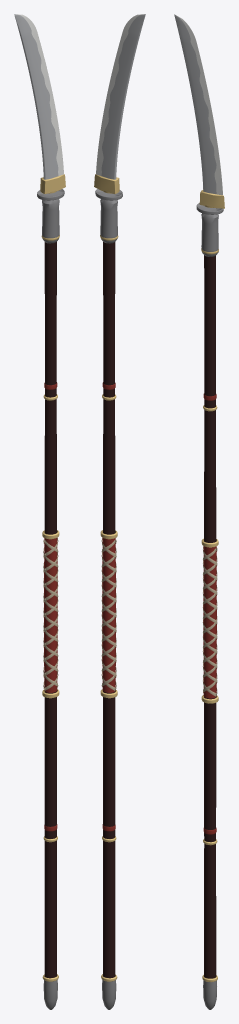
Rendered from gear_edo_naginata.glb.
The picture shows the model from 3 angles, left to right: view 1: azimuth 30°, elevation 25°; view 2: azimuth 150°, elevation 25°; view 3: azimuth 330°, elevation 25°; orthographic projection.
Visible parts, largest first — view 1: gear_edo_naginata; view 2: gear_edo_naginata; view 3: gear_edo_naginata.
Part boxes in pixels (<box>): gear_edo_naginata: <box>14,14,65,1009</box>; gear_edo_naginata: <box>94,14,145,1009</box>; gear_edo_naginata: <box>174,14,224,1009</box>.
Size of the model in its own units: 0.1412 by 2.62 by 0.0558.
